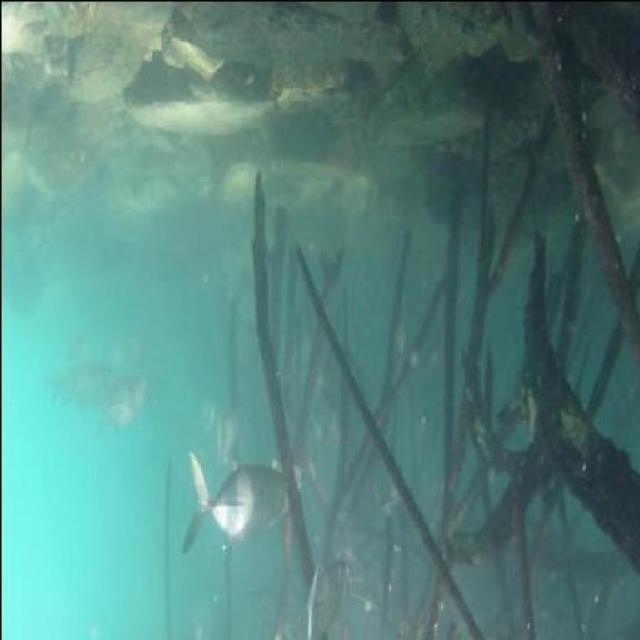Caranx_sexfasciatus_juvenile: (182, 448, 290, 554), (44, 349, 116, 431), (298, 547, 349, 640), (96, 362, 150, 440), (368, 459, 406, 528), (215, 405, 251, 469)
